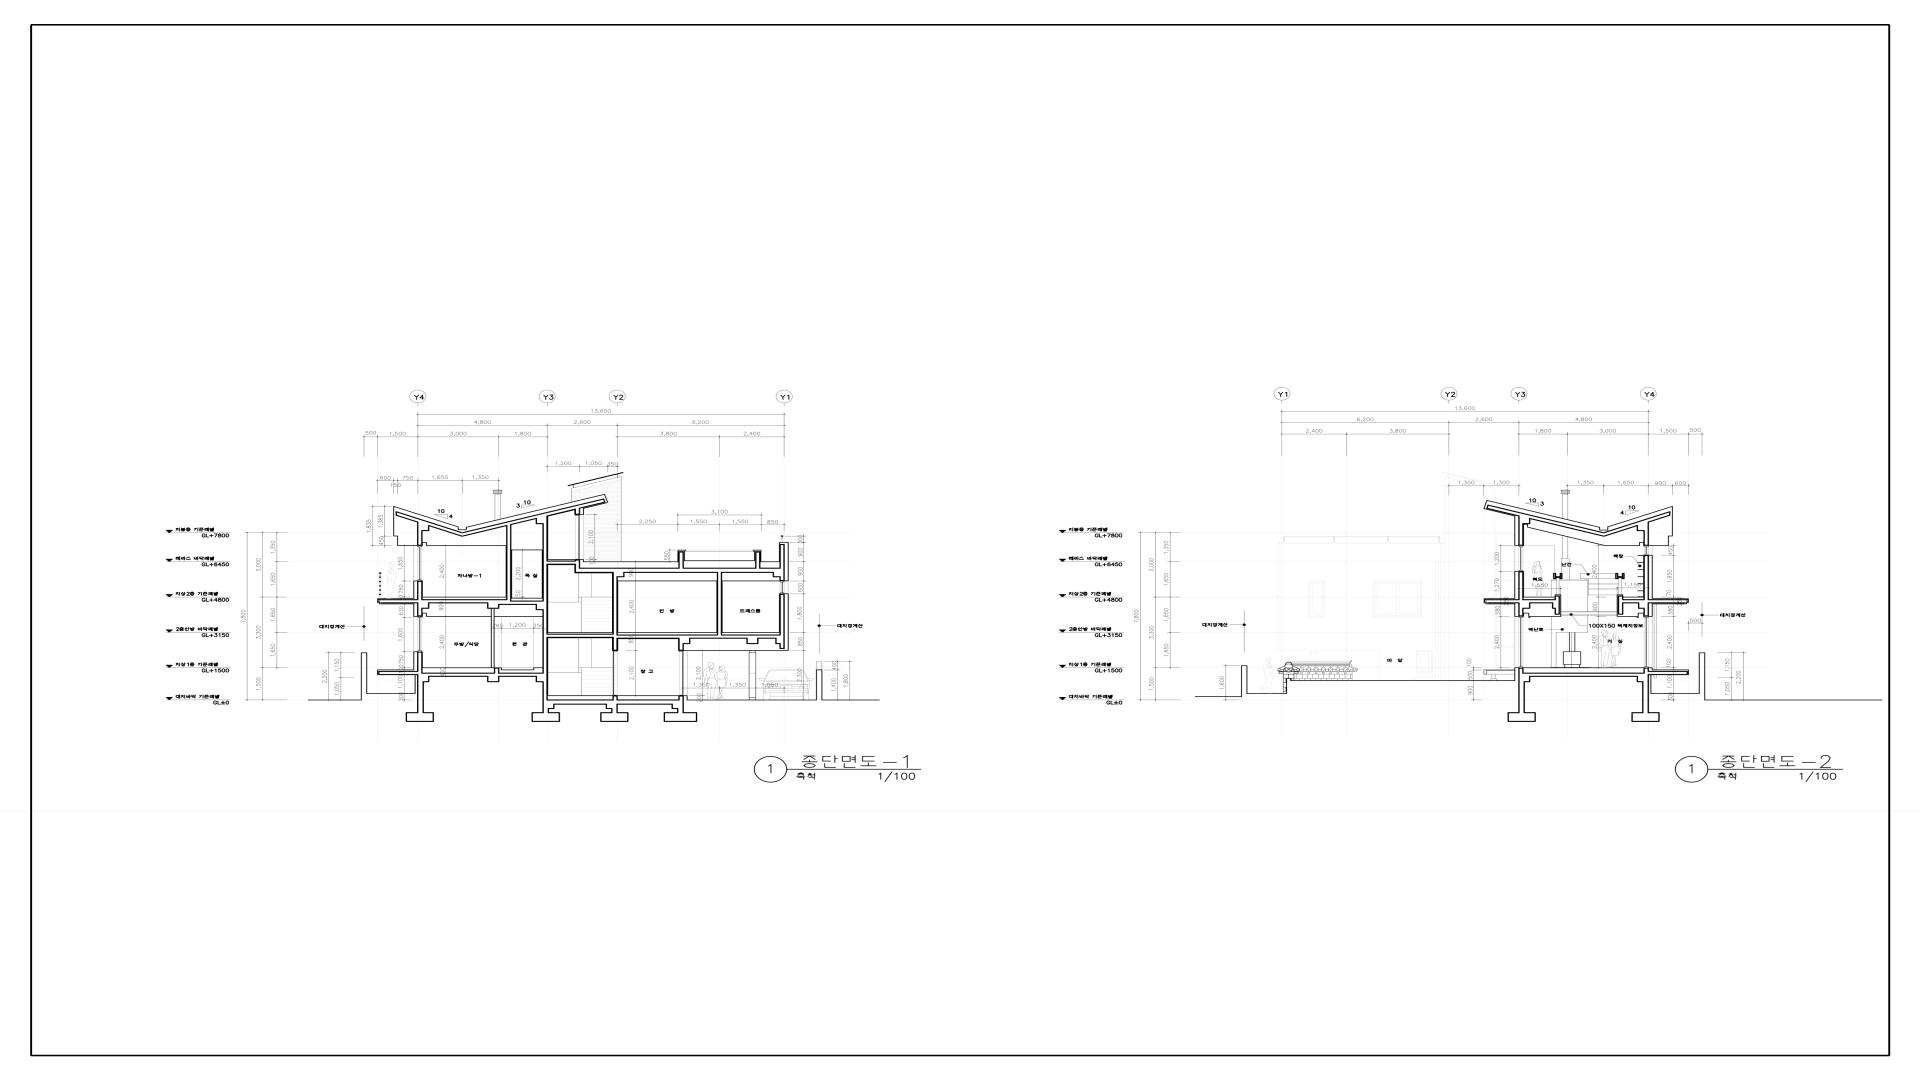door: (678, 651, 684, 696), (612, 651, 618, 695), (575, 514, 580, 559)
wall: (396, 498, 605, 537), (575, 545, 785, 574), (1486, 505, 1671, 537), (378, 651, 549, 682), (380, 599, 549, 609), (1518, 667, 1688, 676), (1486, 596, 1560, 615), (1631, 676, 1660, 723), (1507, 676, 1536, 723), (1618, 596, 1687, 615), (554, 695, 684, 704), (549, 634, 618, 651), (535, 516, 549, 601), (535, 605, 549, 673), (618, 634, 785, 640), (612, 574, 625, 634), (535, 676, 554, 712), (663, 704, 698, 723), (600, 705, 629, 723), (417, 676, 430, 712), (1518, 516, 1531, 546), (506, 525, 512, 600), (717, 574, 723, 634), (1636, 522, 1650, 546), (417, 522, 430, 546), (531, 712, 560, 723), (1643, 555, 1650, 600), (406, 712, 434, 723), (1560, 612, 1618, 616), (491, 609, 495, 667), (779, 593, 785, 634), (549, 559, 580, 566), (1518, 571, 1524, 600), (417, 604, 430, 617), (1518, 604, 1531, 617), (678, 640, 691, 651), (1638, 604, 1648, 617), (417, 580, 423, 600), (773, 574, 785, 582), (775, 640, 785, 649), (746, 640, 758, 645), (575, 509, 580, 514)
window: (1643, 617, 1650, 667), (417, 617, 423, 651), (417, 546, 423, 580), (1519, 617, 1523, 667), (1518, 546, 1524, 571), (779, 582, 785, 593), (1643, 546, 1650, 555)
